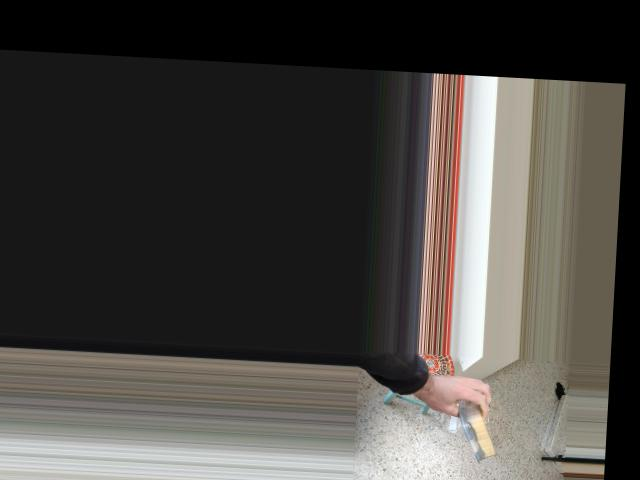cheese: (439, 368, 520, 468)
